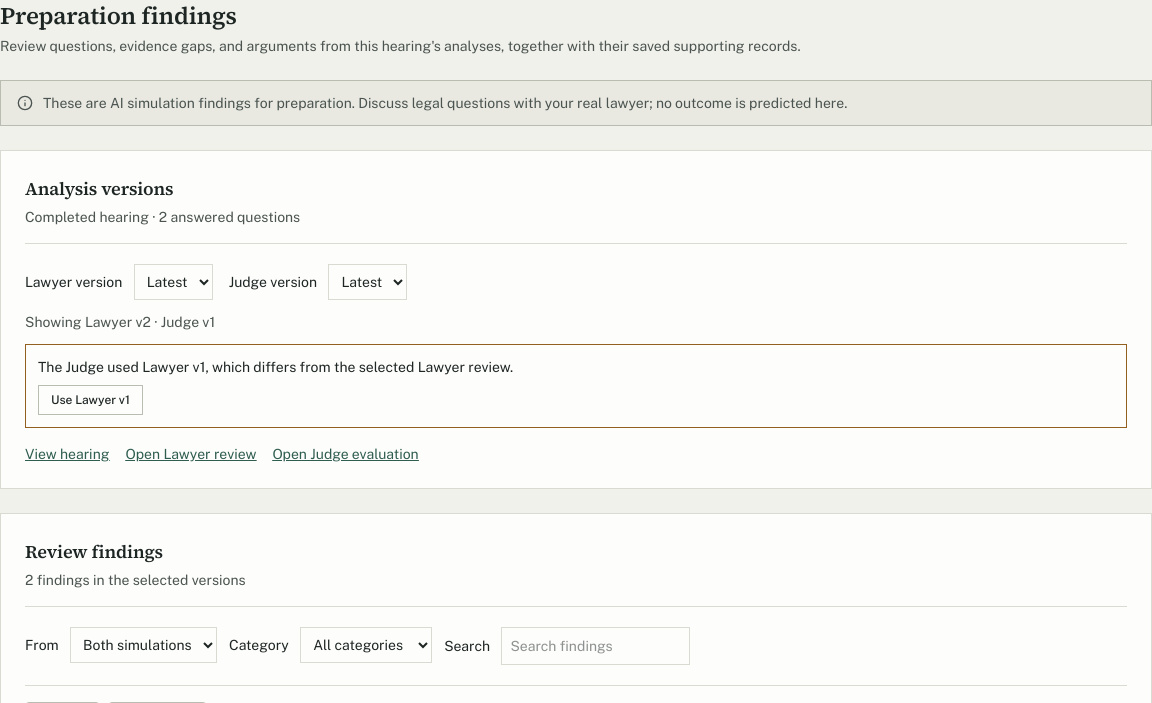
Scenario: shows version mismatch and can select the Lawyer version the Judge used
Expected: the text "The Judge used Lawyer v1, which differs from the selected Lawyer review." is shown, [38, 359, 513, 375]
Click the button "Use Lawyer v1": point(90, 400) [38, 385, 143, 415]
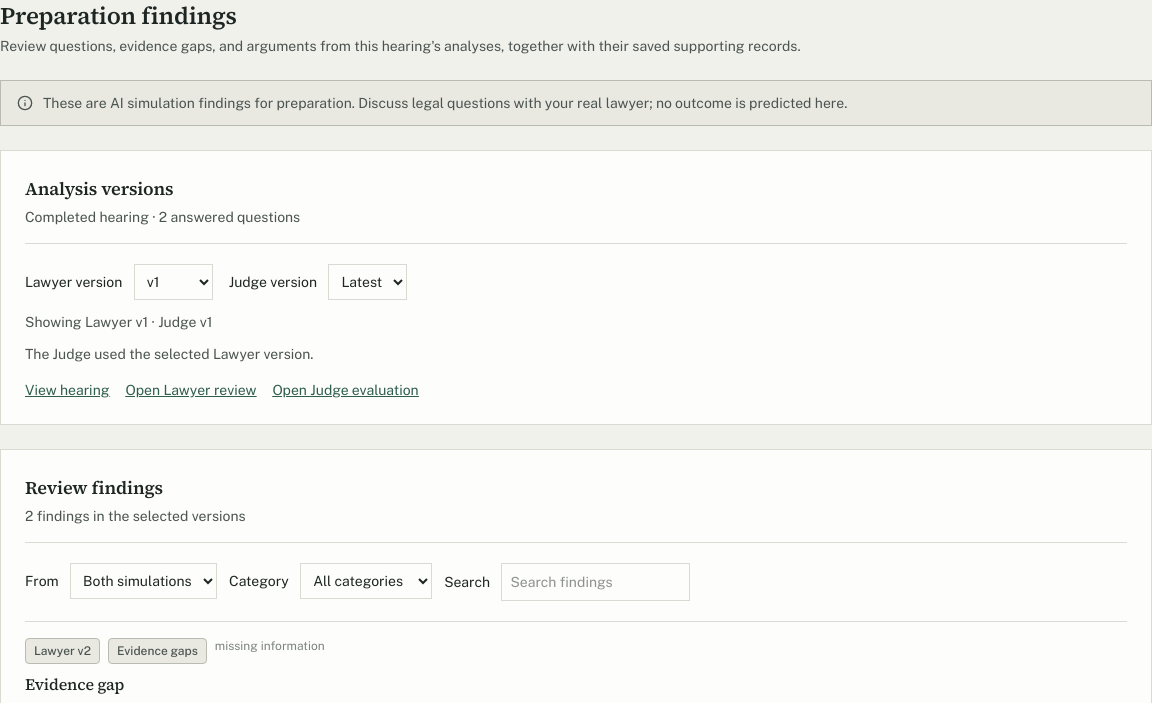
Expected: the text "The Judge used the selected Lawyer version." is shown, [25, 346, 313, 362]
